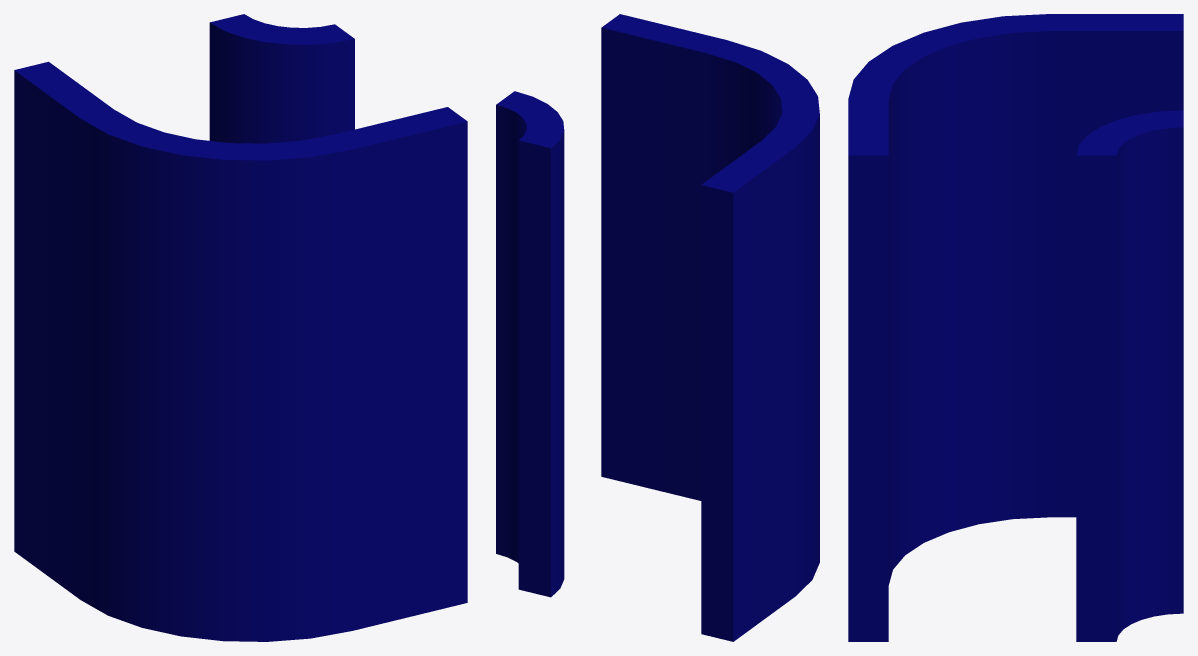
Rendered from Wall08.FBX.
The picture shows the model from 3 angles, left to right: view 1: azimuth 30°, elevation 25°; view 2: azimuth 150°, elevation 25°; view 3: azimuth 270°, elevation 25°; orthographic projection. The views are drawn at different scales.
Visible parts, largest first — view 1: Wall08; view 2: Wall08; view 3: Wall08.
Boxes of the visible parts, bbox=[...] form: Wall08: bbox=[14, 14, 467, 641]; Wall08: bbox=[496, 14, 819, 641]; Wall08: bbox=[848, 14, 1183, 641].
Bounding box in the file's own units: 50 × 80 × 50.
Materials: 1 (1 with a texture image).
